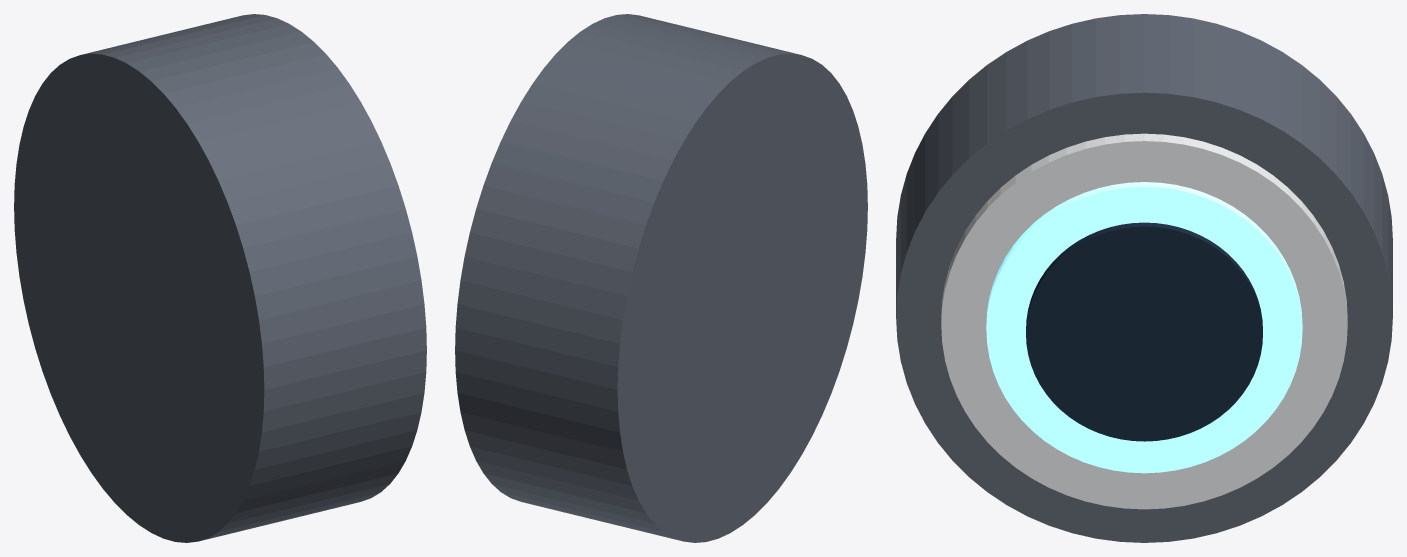
The model's file is pod_right.glb.
3 renders of one model, left to right at view 1: azimuth 30°, elevation 25°; view 2: azimuth 150°, elevation 25°; view 3: azimuth 270°, elevation 25°, orthographic.
Parts seen in each view (by area): view 1: pod_right_0; view 2: pod_right_0; view 3: pod_right_0, pod_right_1, pod_right_3, pod_right_2.
Part boxes in pixels (x1=…): pod_right_0: x1=14, y1=14, x2=426, y2=542; pod_right_0: x1=455, y1=14, x2=867, y2=542; pod_right_0: x1=896, y1=14, x2=1392, y2=542; pod_right_1: x1=941, y1=133, x2=1347, y2=509; pod_right_3: x1=1026, y1=222, x2=1262, y2=441; pod_right_2: x1=986, y1=182, x2=1302, y2=473.
Bounding box in the file's own units: 19.9 × 44 × 44.
